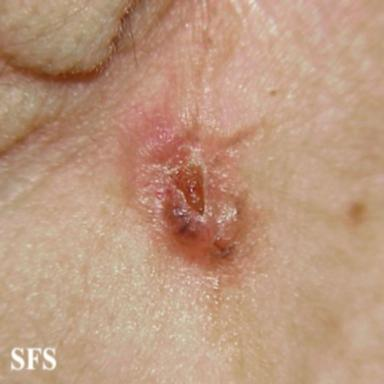basal-cell-carcinoma: (124, 103, 258, 264)
